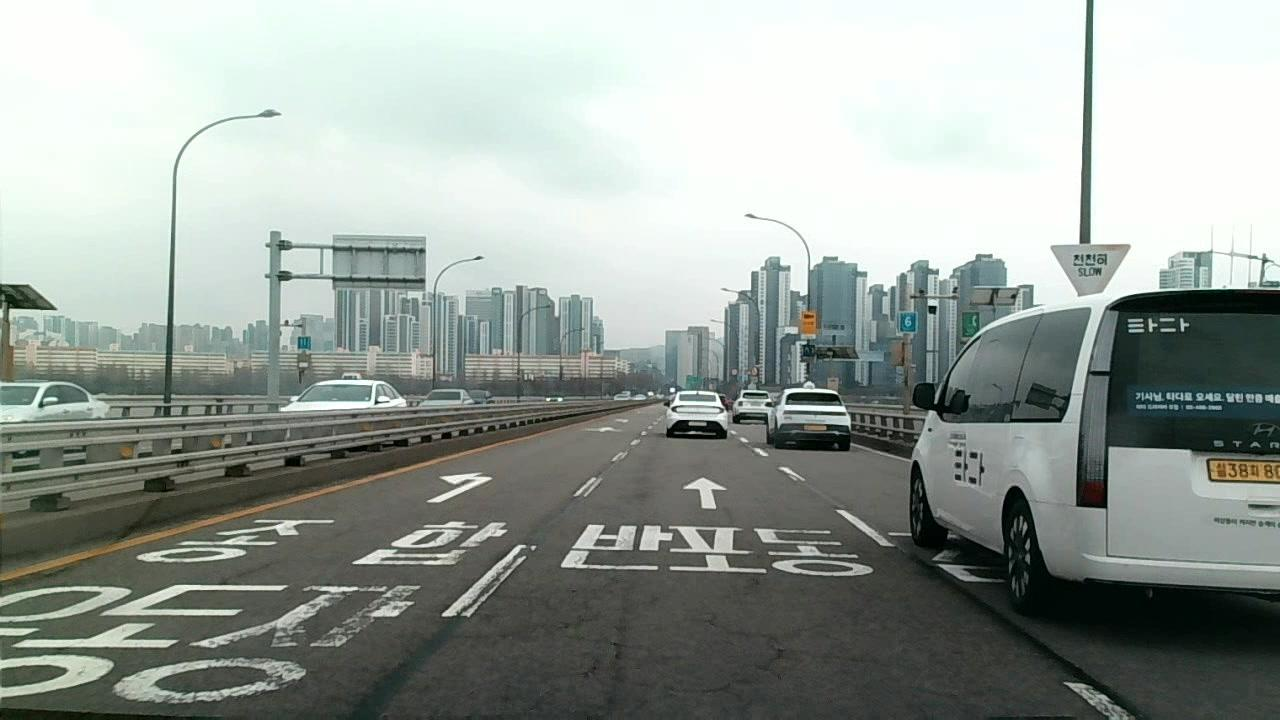erosion: (427, 577, 845, 720)
